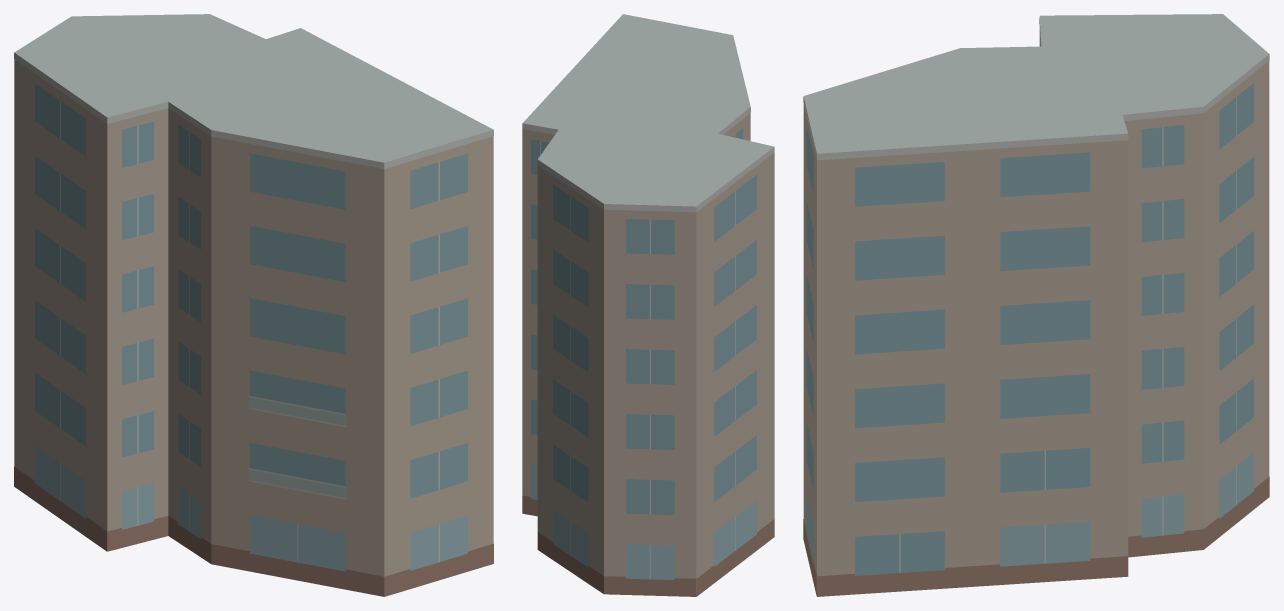
File: survey-upis-32970812.glb
The picture shows the model from 3 angles, left to right: view 1: azimuth 30°, elevation 25°; view 2: azimuth 150°, elevation 25°; view 3: azimuth 270°, elevation 25°; orthographic projection. The views are drawn at different scales.
Visible parts, largest first — view 1: survey-upis-32970812.tmp; view 2: survey-upis-32970812.tmp; view 3: survey-upis-32970812.tmp.
Part boxes in pixels (<box>): survey-upis-32970812.tmp: <box>14,14,493,596</box>; survey-upis-32970812.tmp: <box>522,14,774,596</box>; survey-upis-32970812.tmp: <box>803,14,1269,596</box>.
Bounding box in the file's own units: 11.17 × 16.5 × 15.73.
